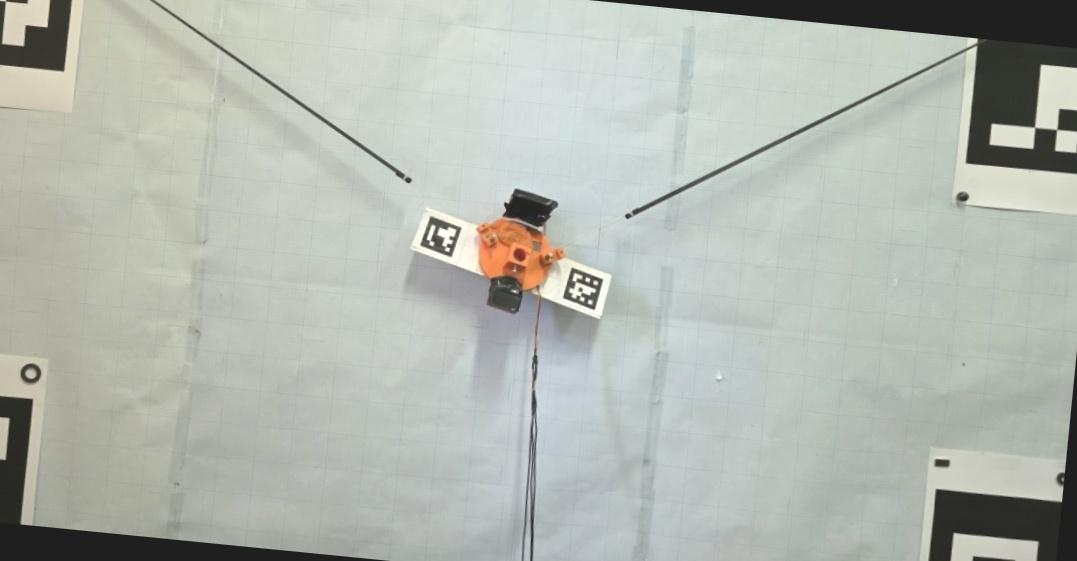robot: (474, 187, 567, 314)
